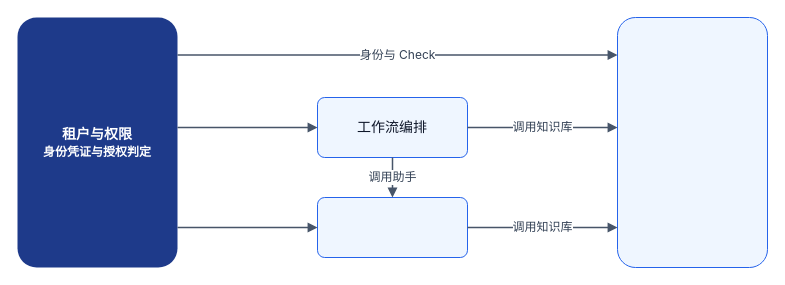
This 785x285 diagram has some shape labels left out. Each missing label, with the centre of its shape:
Agent: (392,227)
知识库: (692,142)
